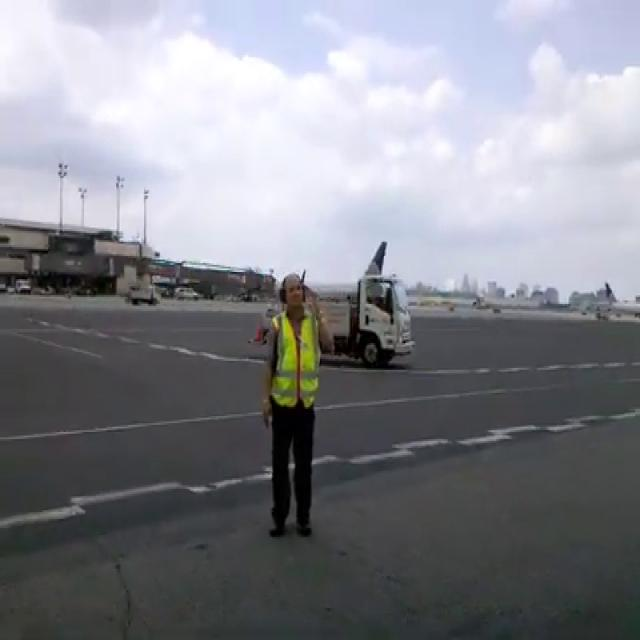earmuff: (279, 285, 289, 305)
helmet: (283, 271, 304, 291)
